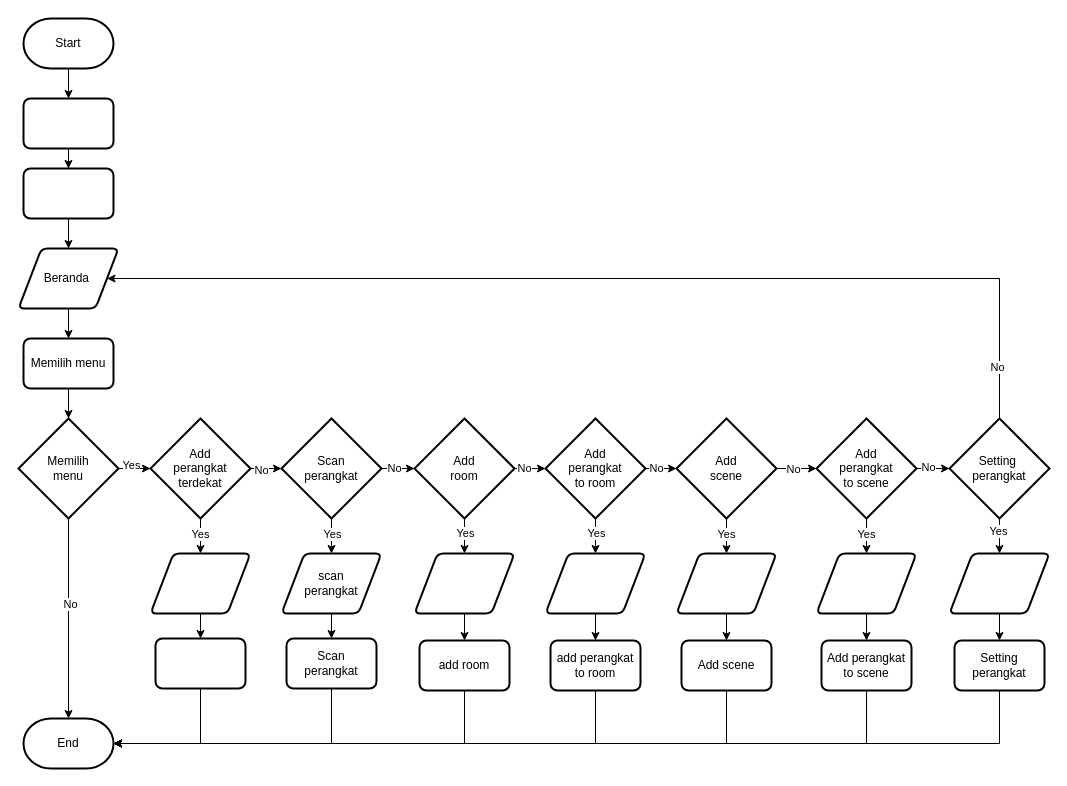
Some shapes in this 1067 by 786 pixel diagram are drawn without their labels. Each missing label, with the centre of its shape:
add perangkat: point 200,663
Form add perangkat: point 200,583
Form add perangkat room: point 595,583
Form add perangkat to scene: point 866,583
Form add room: point 464,583
Form add scene: point 726,583
Form setting perangkat: point 999,583
Login/guest: point 68,193
Register: point 68,123
